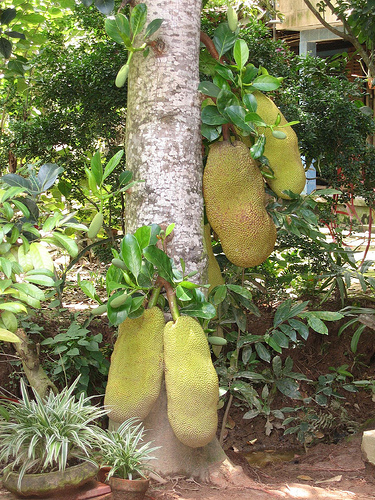jackfruit: (198, 120, 278, 268), (235, 83, 305, 203), (162, 313, 221, 450), (102, 306, 167, 422)
